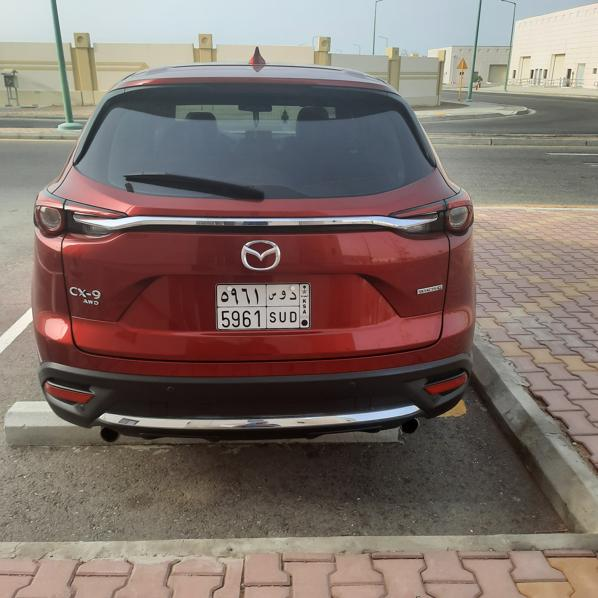numberplate: (217, 284, 311, 329)
